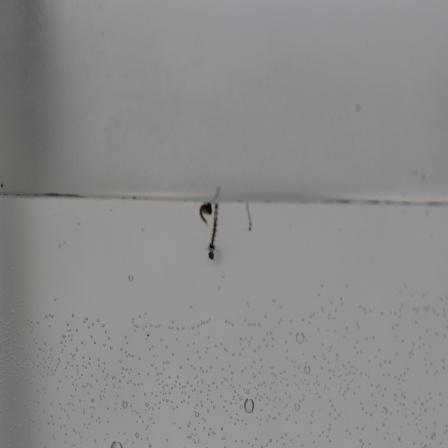Jentik-Nyamuk: (198, 197, 221, 262), (243, 201, 255, 233)
